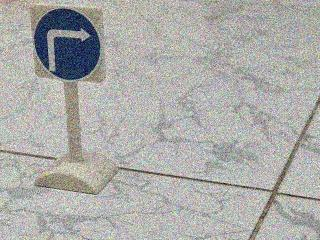right: (22, 0, 116, 90)
